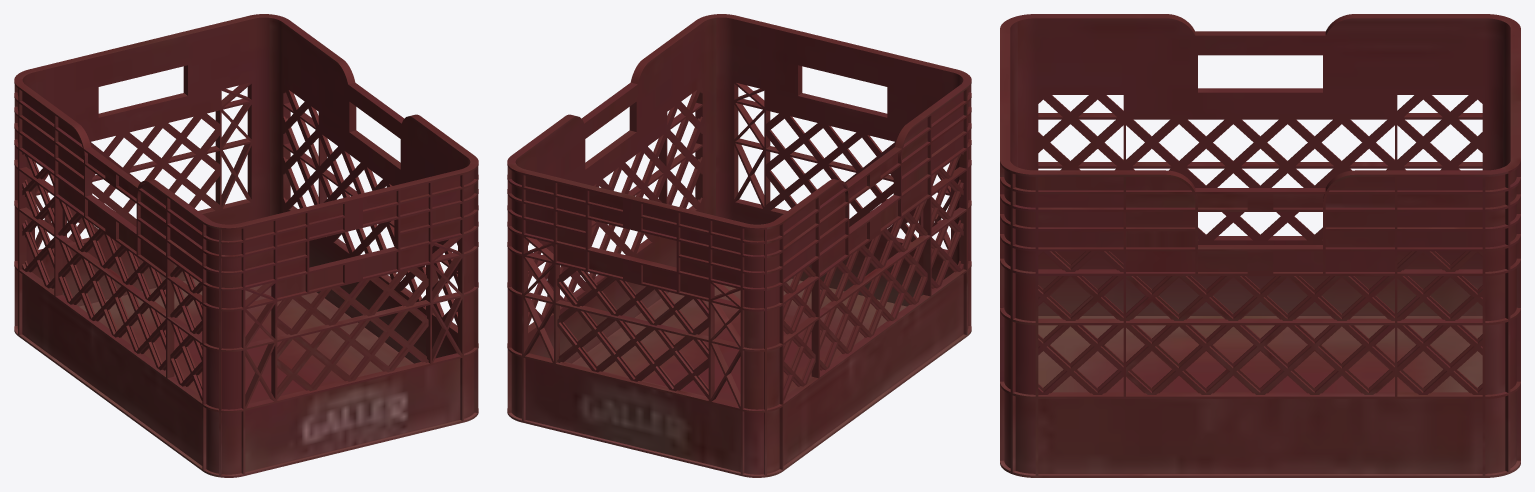
Rendered from crate_plastic.glb.
The picture shows the model from 3 angles, left to right: view 1: azimuth 30°, elevation 25°; view 2: azimuth 150°, elevation 25°; view 3: azimuth 270°, elevation 25°; orthographic projection. The views are drawn at different scales.
Parts seen in each view (by area): view 1: plastic_crate_01; view 2: plastic_crate_01; view 3: plastic_crate_01.
Boxes of the visible parts, x1,y1,x2,y2 form: plastic_crate_01: (14, 14, 478, 477); plastic_crate_01: (507, 14, 971, 477); plastic_crate_01: (1000, 14, 1520, 477).
Bounding box in the file's own units: 0.298 × 0.2642 × 0.408.
1 material, 1 textured.
